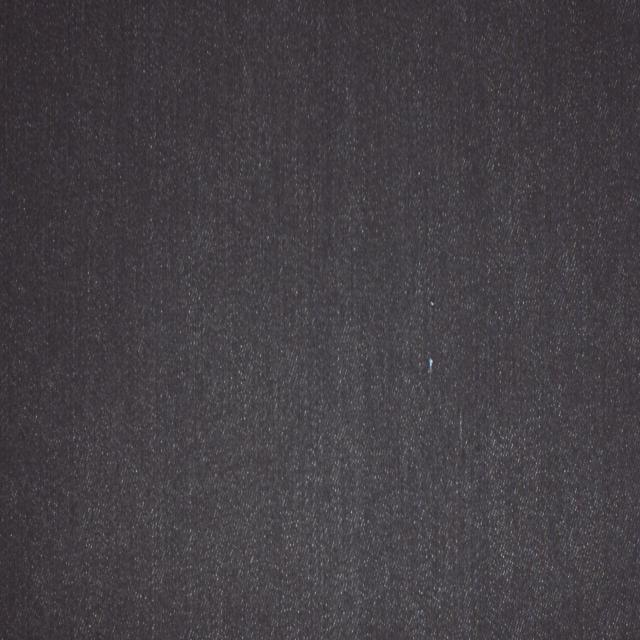Knot: (427, 353, 435, 374), (430, 300, 436, 308)
